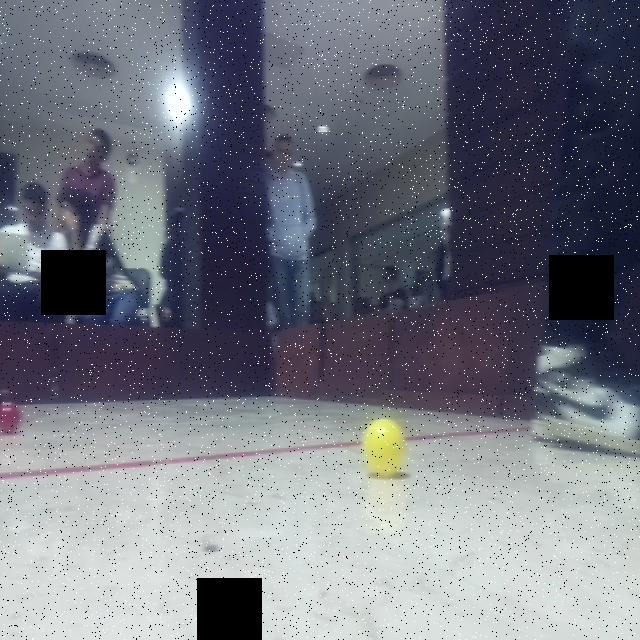ball: (361, 416, 410, 476), (0, 397, 24, 436)
